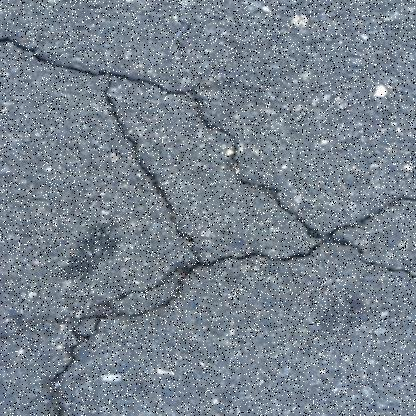Cracks: (0, 27, 415, 287), (41, 234, 327, 416)
